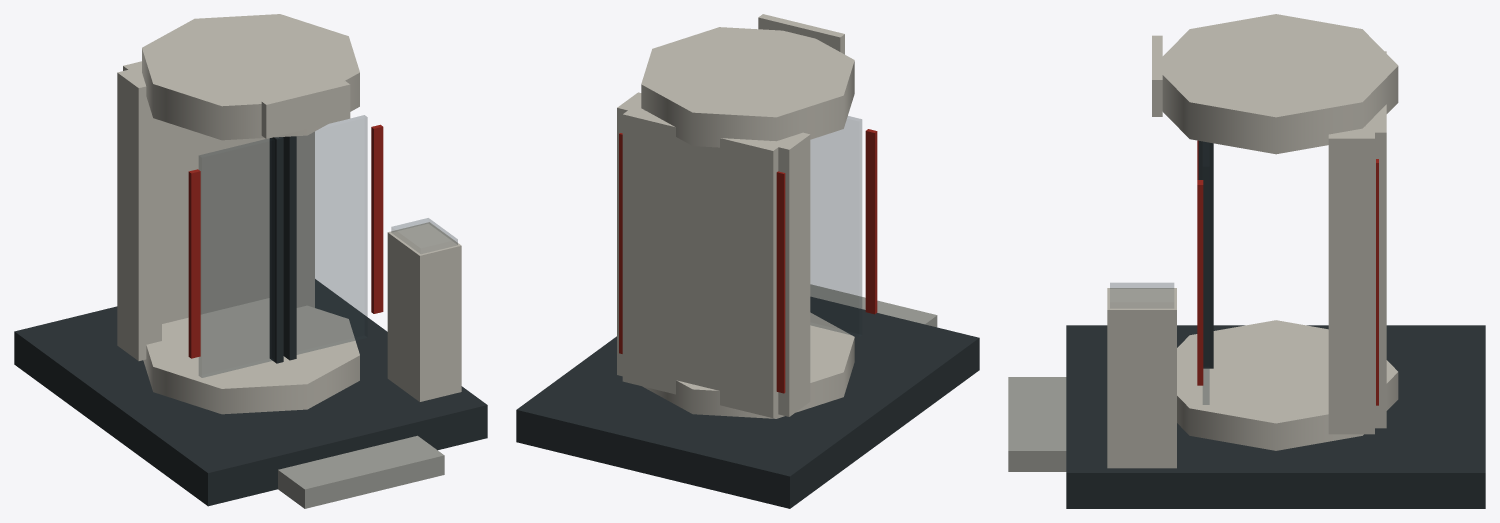
The picture shows the model from 3 angles, left to right: view 1: azimuth 30°, elevation 25°; view 2: azimuth 150°, elevation 25°; view 3: azimuth 270°, elevation 25°; orthographic projection. The views are drawn at different scales.
Parts seen in each view (by area): view 1: cloning-vat-painted, vat-door--1-glazing, vat-door-1-glazing, vat-door--1-painted, vat-door-1-painted, cloning-vat-glazing; view 2: cloning-vat-painted, vat-door--1-glazing; view 3: cloning-vat-painted, vat-door-1-painted, cloning-vat-glazing, vat-door-1-glazing.
Part boxes in pixels (x1,y1,x2,y2): cloning-vat-painted: (14, 14, 487, 508); vat-door--1-glazing: (199, 138, 274, 377); vat-door-1-glazing: (297, 115, 367, 354); vat-door--1-painted: (269, 137, 283, 363); vat-door-1-painted: (283, 136, 296, 360); cloning-vat-glazing: (391, 218, 457, 253); cloning-vat-painted: (516, 14, 979, 508); vat-door--1-glazing: (810, 116, 861, 336); cloning-vat-painted: (1008, 14, 1485, 508); vat-door-1-painted: (1198, 141, 1213, 368); cloning-vat-glazing: (1110, 283, 1173, 307); vat-door-1-glazing: (1203, 142, 1209, 404).
Size of the model in its own units: 15.79 by 18.82 by 21.58.
